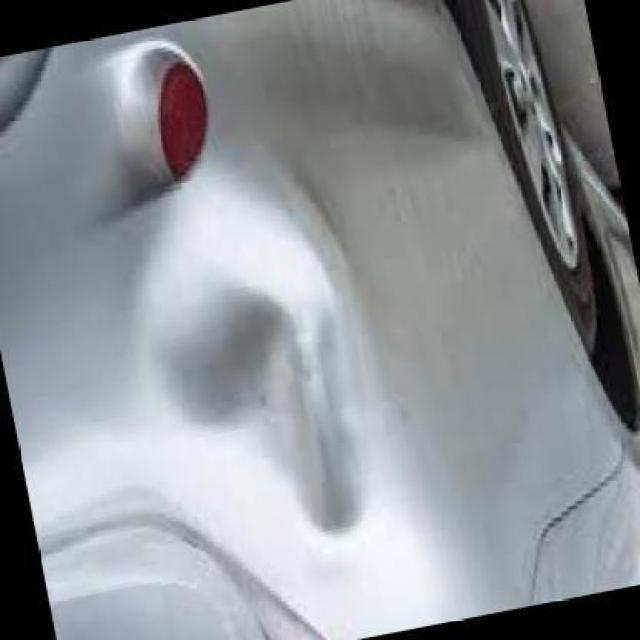dent: (143, 194, 374, 538)
